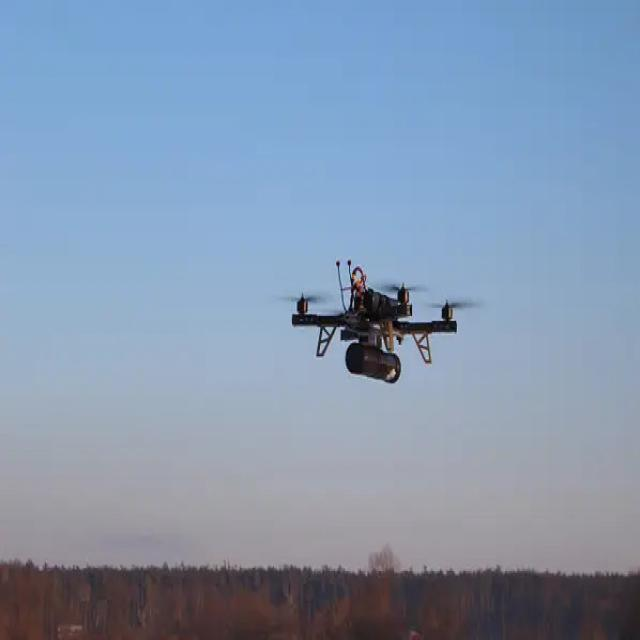drone: (269, 255, 487, 386)
